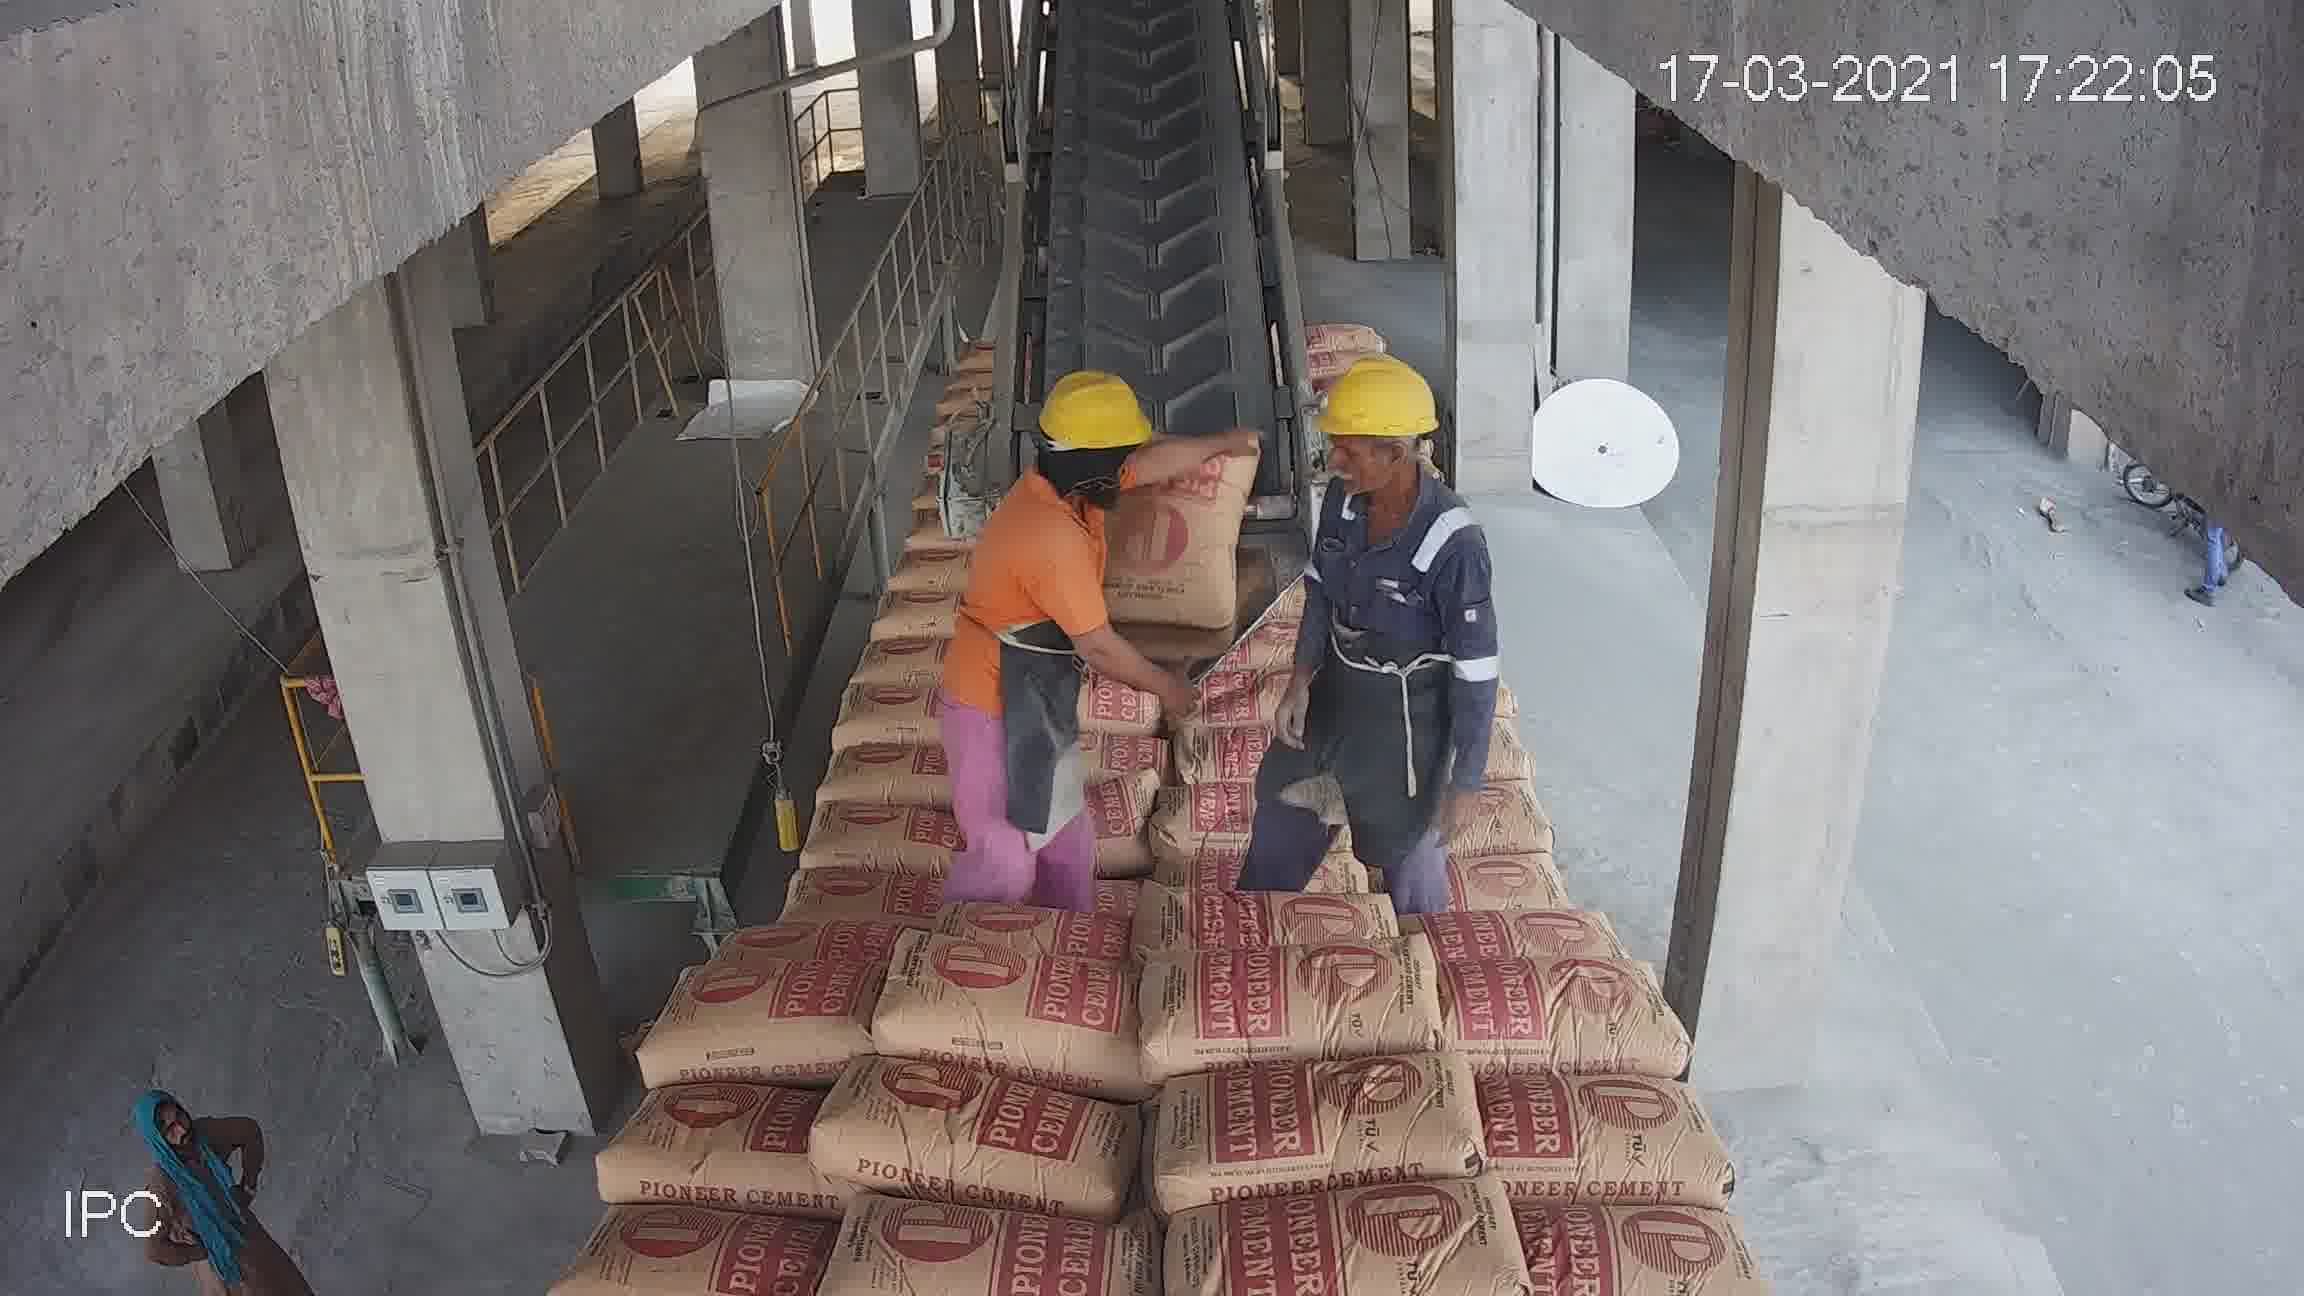bag_h: (1154, 1051, 1480, 1225), (1141, 934, 1446, 1082), (780, 1070, 1149, 1192), (1157, 818, 1434, 967), (859, 945, 1154, 1081), (1222, 1168, 1527, 1293), (809, 1198, 1158, 1296), (627, 951, 851, 1103), (571, 1071, 809, 1211), (1486, 1070, 1737, 1199), (1133, 720, 1389, 837), (897, 839, 1144, 956), (1418, 858, 1644, 978), (538, 1204, 828, 1296), (734, 695, 987, 798), (1429, 962, 1700, 1057), (1514, 1198, 1768, 1296), (729, 763, 900, 885), (1405, 748, 1578, 862), (684, 869, 885, 959), (888, 764, 1124, 839), (1008, 652, 1165, 745), (991, 570, 1180, 635), (1010, 617, 1161, 679), (1169, 527, 1283, 589), (1157, 623, 1247, 687), (1182, 571, 1264, 639)
belt: (1014, 36, 1304, 456)
